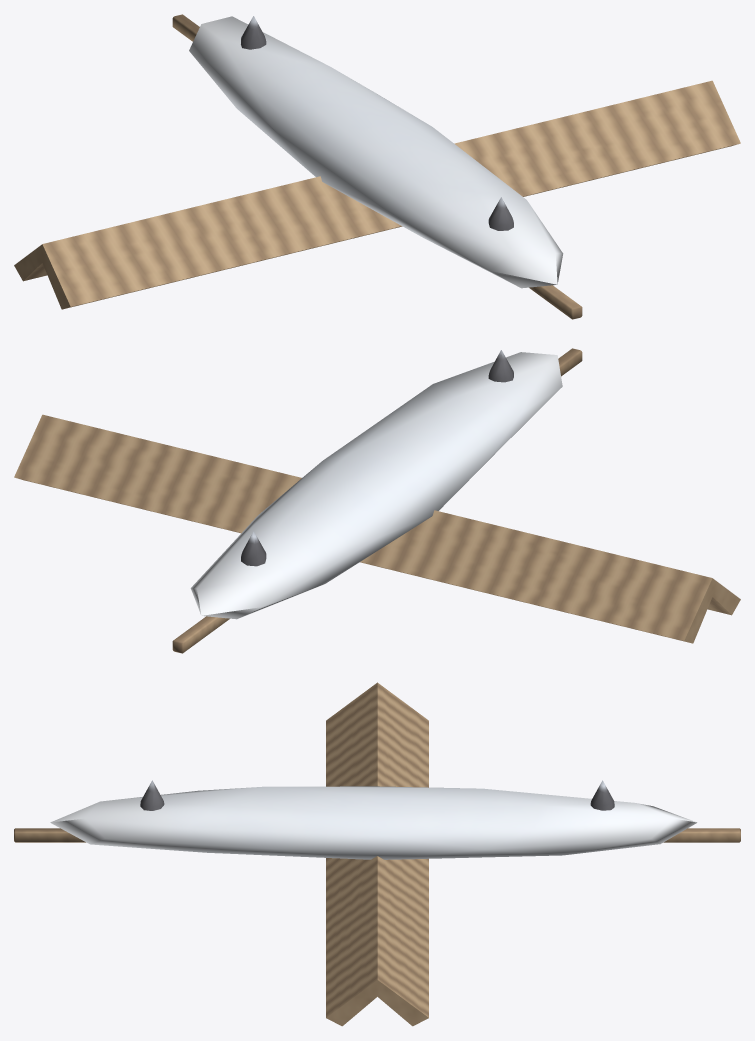
File: cottage_roof_ridge.gltf
3 renders of one model, top to bottom at view 1: azimuth 30°, elevation 25°; view 2: azimuth 150°, elevation 25°; view 3: azimuth 270°, elevation 25°, orthographic. The views are drawn at different scales.
Visible parts, largest first — view 1: cottage_roof_ridge; view 2: cottage_roof_ridge; view 3: cottage_roof_ridge.
Boxes of the visible parts, x1,y1,x2,y2 form: cottage_roof_ridge: [14, 14, 740, 319]; cottage_roof_ridge: [14, 348, 740, 653]; cottage_roof_ridge: [14, 682, 740, 1026].
Size of the model in its own units: 3 by 0.46 by 3.1.
Materials: 1 (1 with a texture image).
